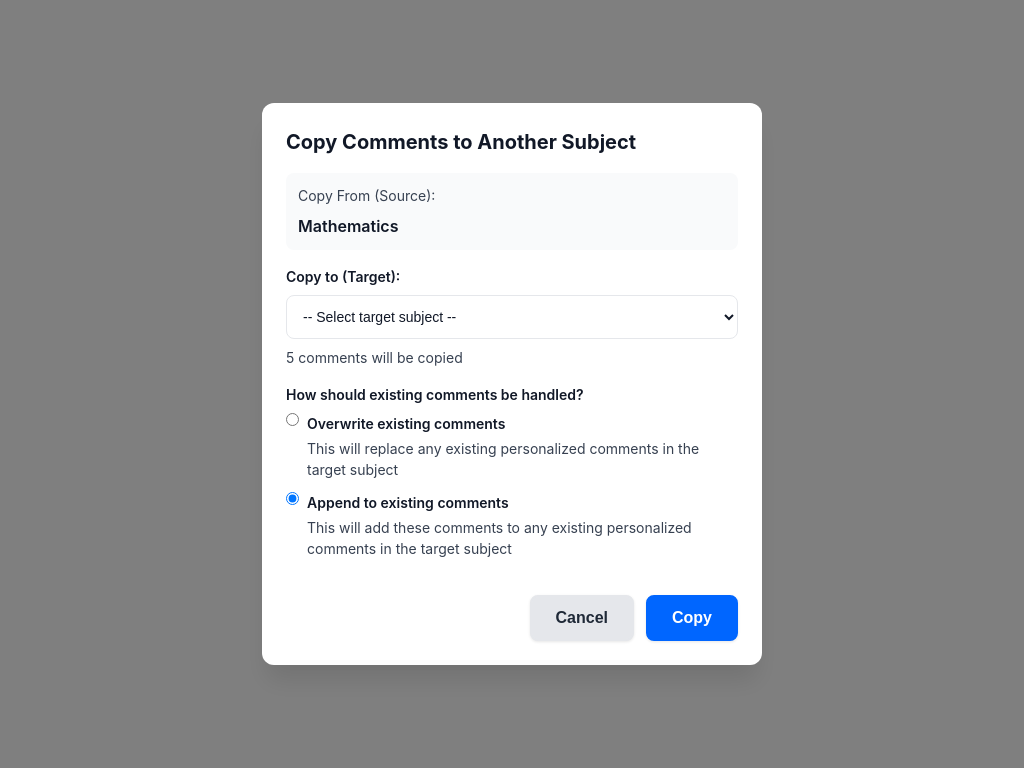
Test: CopyCommentsModal - Validation & Edge Cases (US-CP-005) › AC-5.1: Target Selection Validation › should show validation error message during error recovery with cleared target
// First attempt with target
Select "Chemistry" in the dropdown labelled "Copy to (Target):" at [512, 317], box [286,295,738,339]
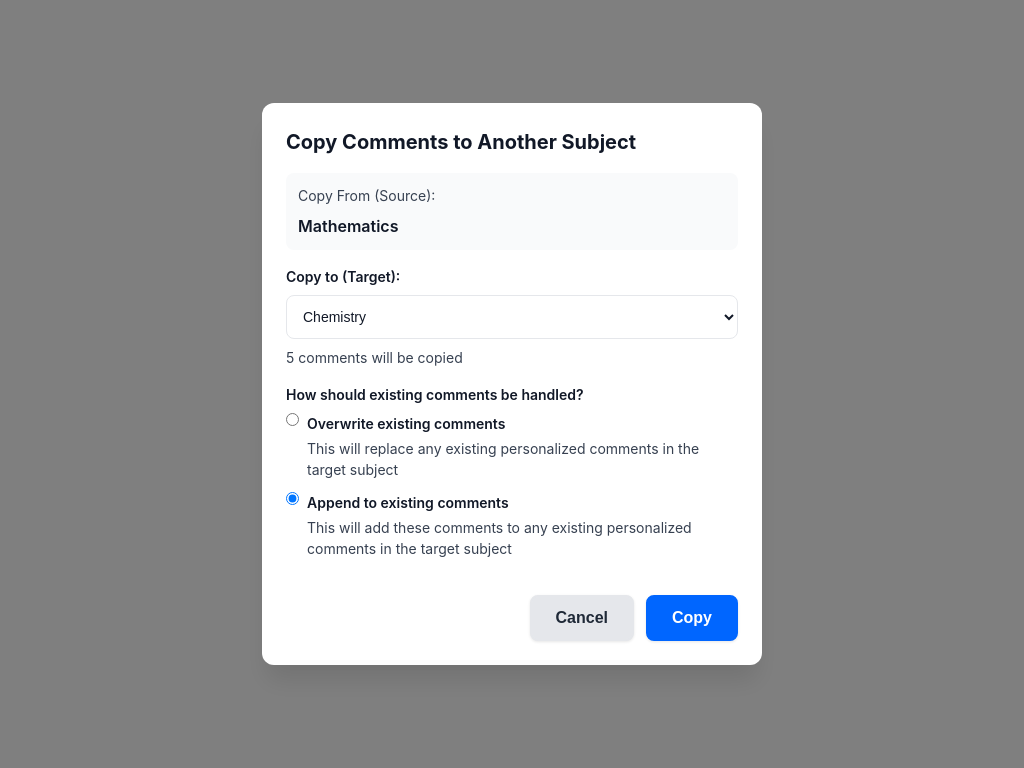
Click the button "Copy" at [692, 618], box [646,595,738,641]
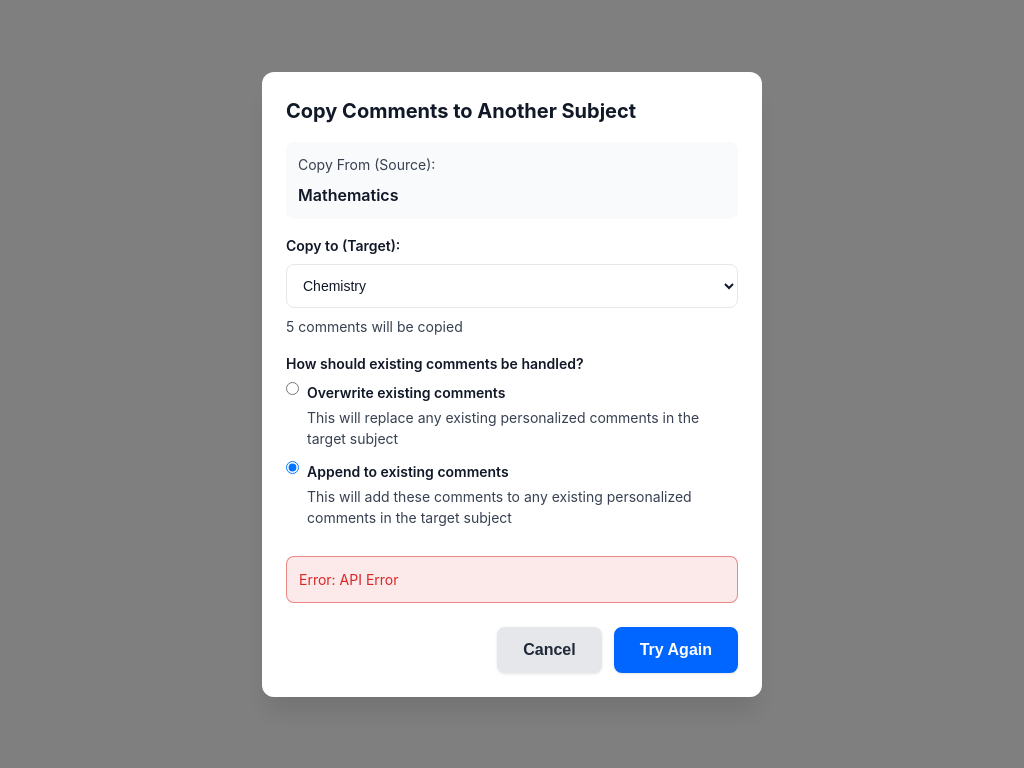
Result: the button "Try Again" is shown at [614,626,738,672]
// Clear target selection
Select "-- Select target subject --" in the dropdown labelled "Copy to (Target):" at [512, 286], box [286,264,738,308]
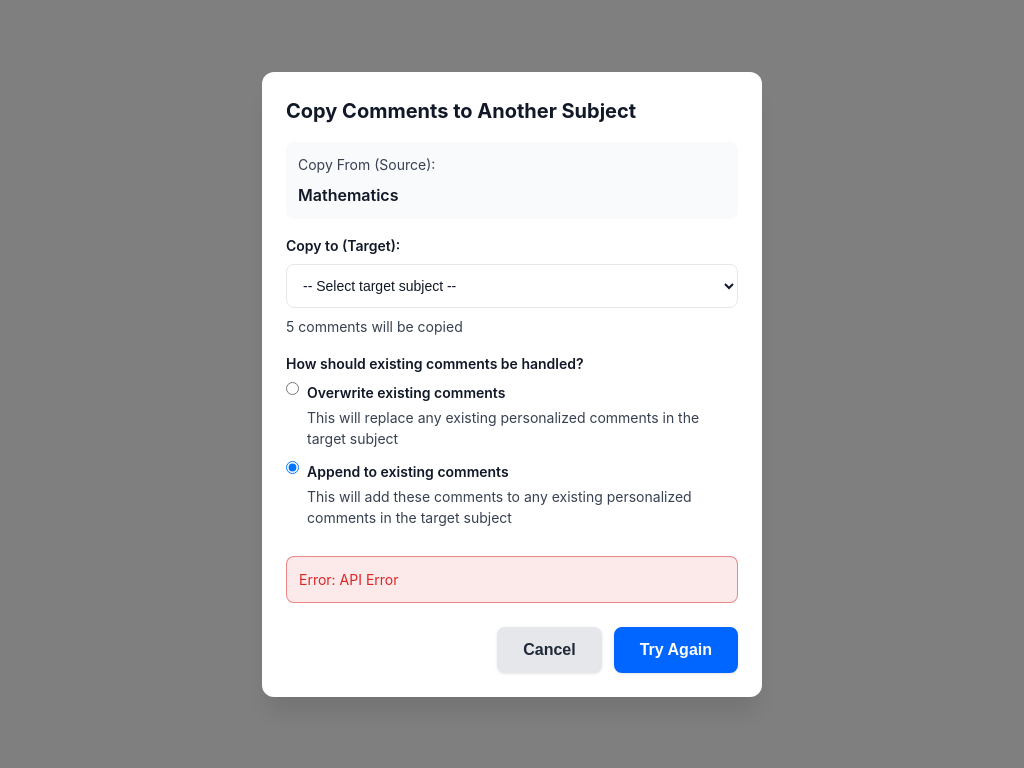
// Try again without target
Click the button "Try Again" at [676, 650], box [614,626,738,672]
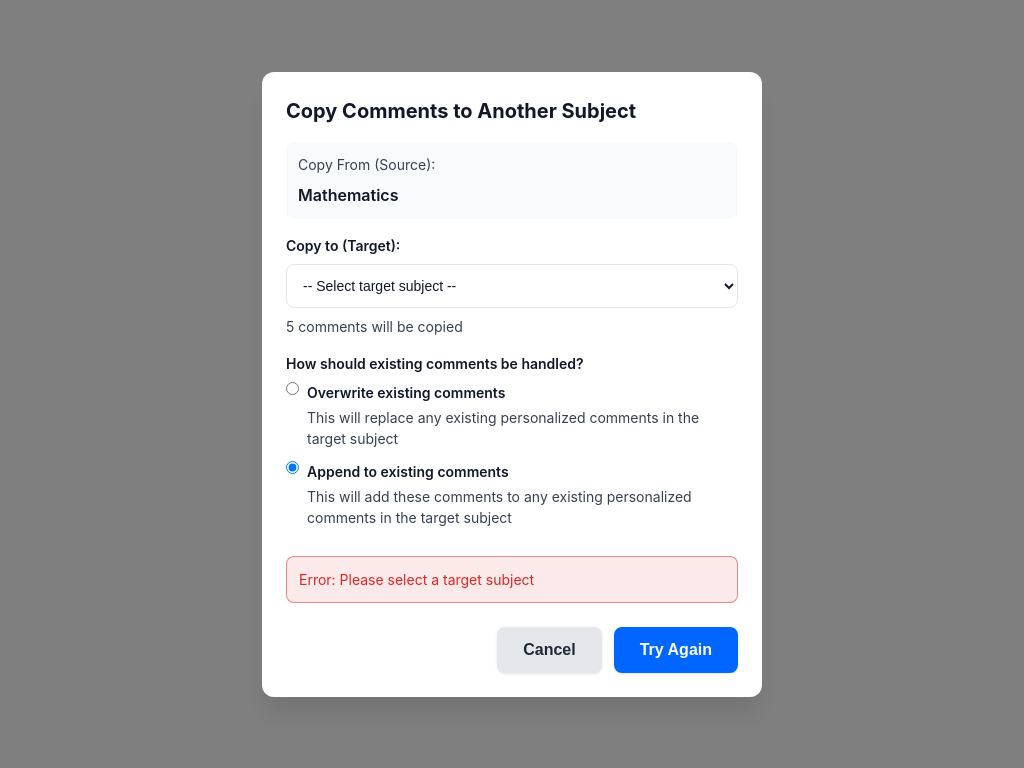
Result: the text "Error: Please select a target subject" is shown at [299,570,534,588]
